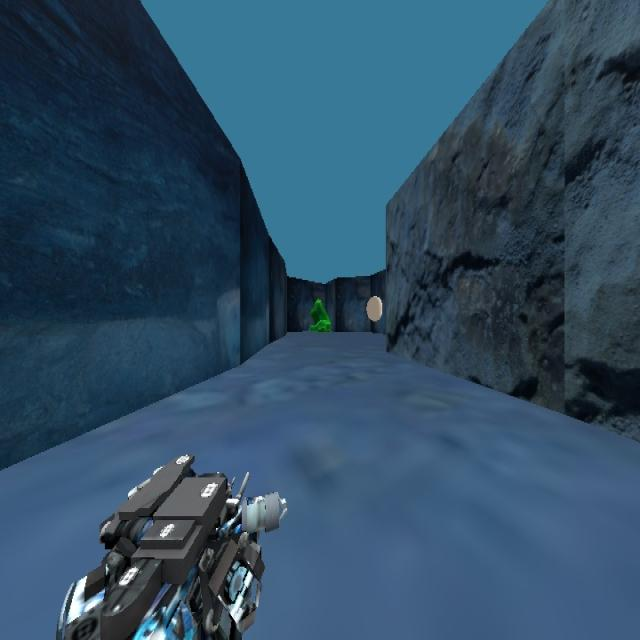Circle: (366, 295, 382, 321)
Diamon: (308, 296, 332, 332)
